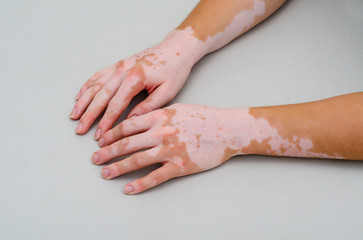vitiligo: (92, 58, 220, 172)
